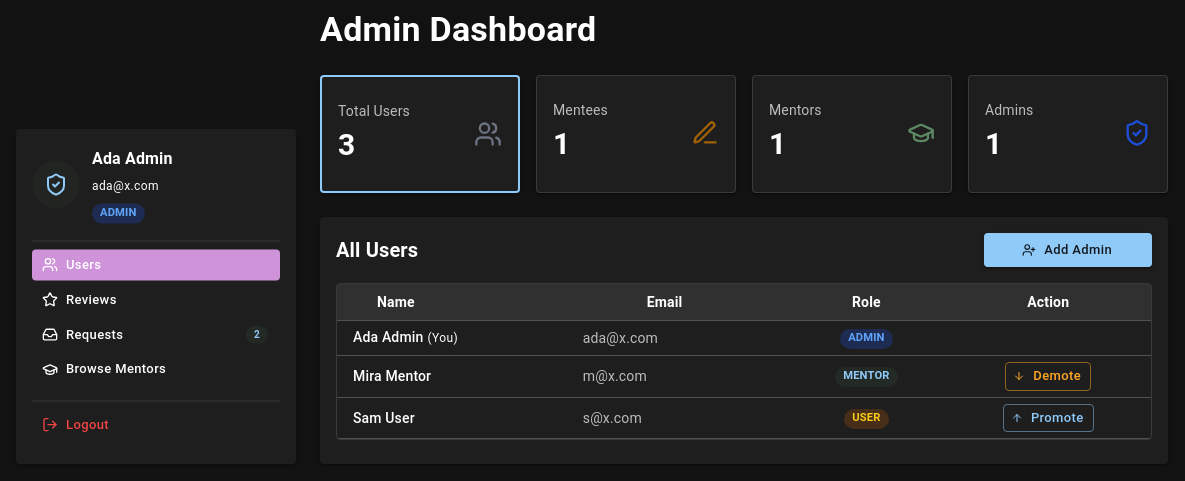
AdminDashboardPage › switches to requests tab and shows pending promotion
Expected: the heading "Ada Admin" is shown, [92,145,173,173]
Click the button "Requests 2": (156, 334) [32,319,280,350]
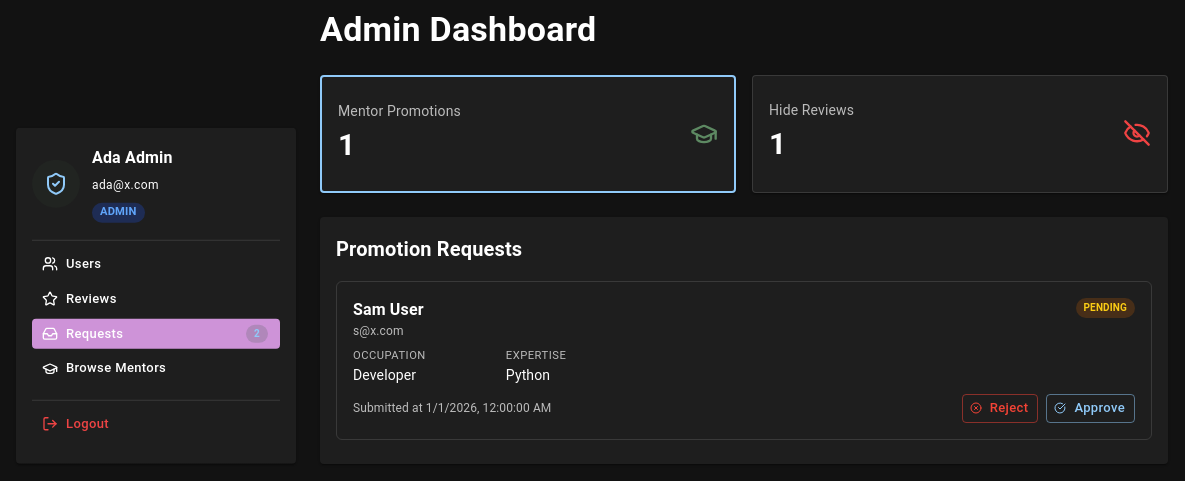
Expected: the text "Python" is shown, [506,367,550,383]
